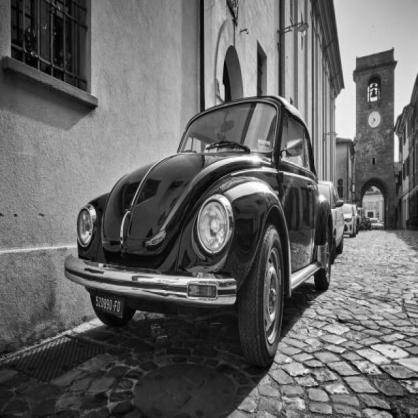car: (71, 96, 333, 365), (343, 205, 357, 241)
